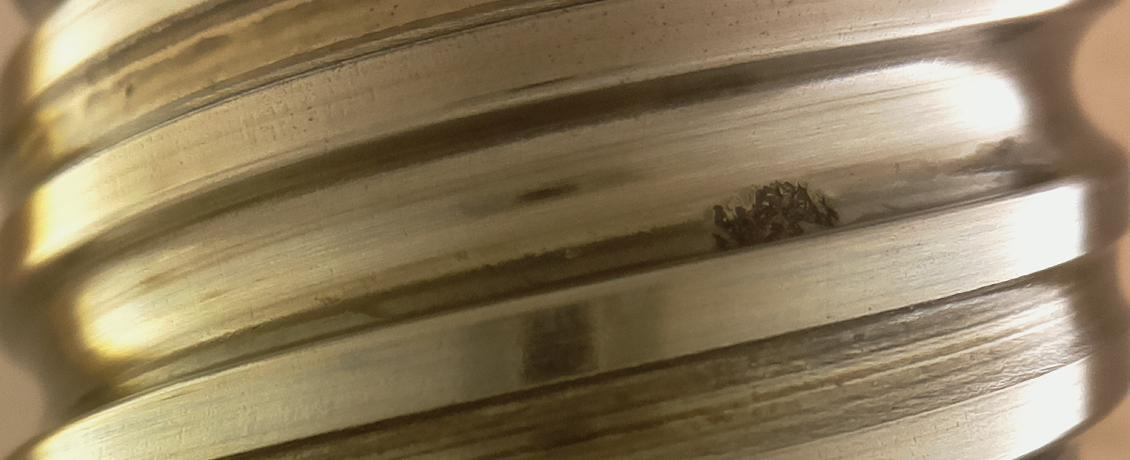pitting: (712, 180, 838, 250)
